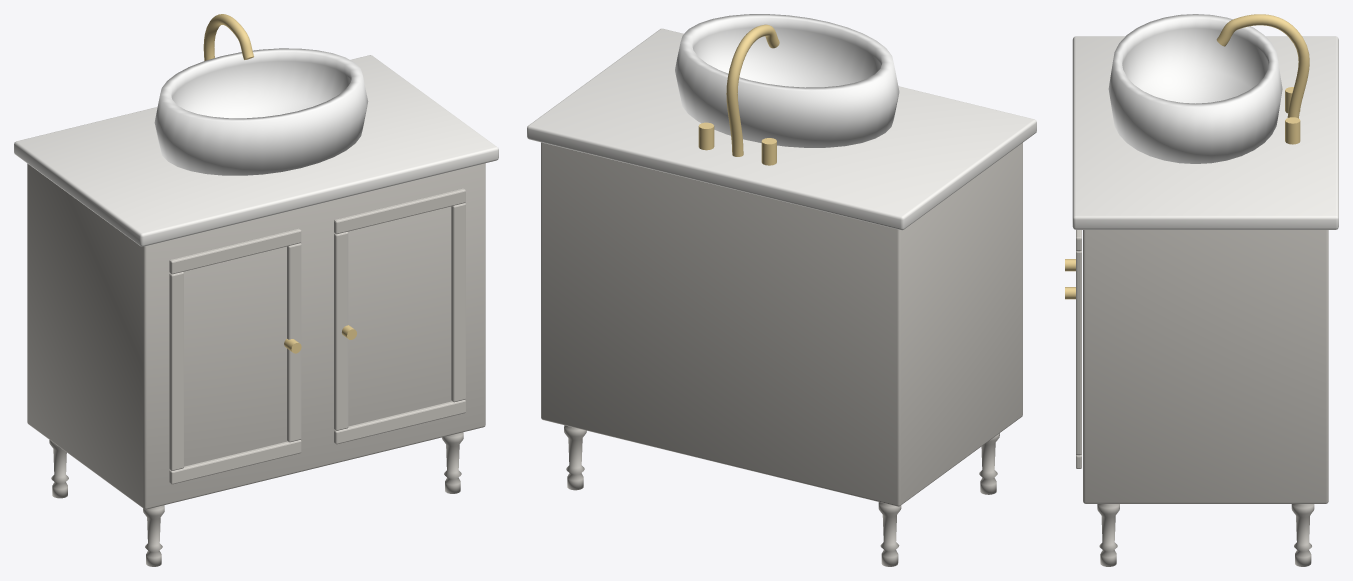
File: vanity.glb
The picture shows the model from 3 angles, left to right: view 1: azimuth 30°, elevation 25°; view 2: azimuth 150°, elevation 25°; view 3: azimuth 270°, elevation 25°; orthographic projection. The views are drawn at different scales.
Visible parts, largest first — view 1: body, top, basin, pf1, pf0, faucet, leg, leg.002, leg.001; view 2: body, top, basin, faucet, leg.001, leg.003, leg; view 3: body, top, basin, faucet, pf1, leg.003, leg.002, tap.001.
Part boxes in pixels (<box>): body: <box>27,163,485,509</box>; top: <box>14,55,498,246</box>; basin: <box>154,48,368,175</box>; pf1: <box>334,188,465,444</box>; pf0: <box>169,228,301,484</box>; faucet: <box>203,14,253,60</box>; leg: <box>143,505,164,566</box>; leg.002: <box>442,432,463,493</box>; leg.001: <box>49,440,68,498</box>; body: <box>541,142,1022,506</box>; top: <box>527,28,1036,230</box>; basin: <box>675,14,899,147</box>; faucet: <box>726,24,779,156</box>; leg.001: <box>878,502,901,566</box>; leg.003: <box>564,425,586,490</box>; leg: <box>979,433,999,494</box>; body: <box>1083,230,1328,503</box>; top: <box>1072,36,1338,229</box>; basin: <box>1108,14,1282,163</box>; faucet: <box>1216,14,1309,118</box>; pf1: <box>1076,230,1081,468</box>; leg.003: <box>1291,504,1314,566</box>; leg.002: <box>1097,504,1119,566</box>; tap.001: <box>1285,117,1300,144</box>.
Size of the model in its own units: 0.84 by 1.02 by 0.535.
